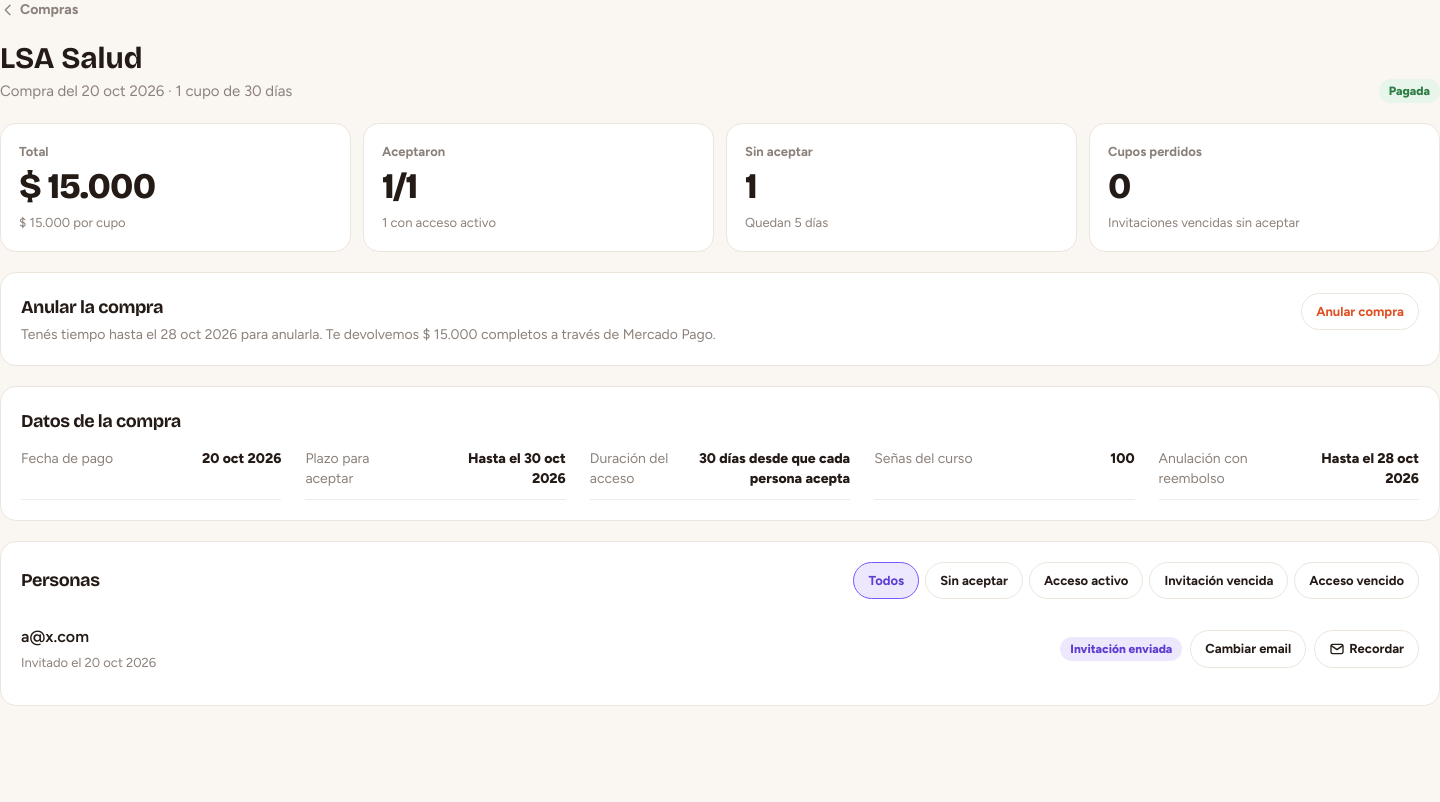
PurchaseDetailPage › explains when Mercado Pago could not give the money back
The image size is (1440, 802).
Click the button "Anular compra". click: (1360, 311)
box: [1301,292,1419,330]
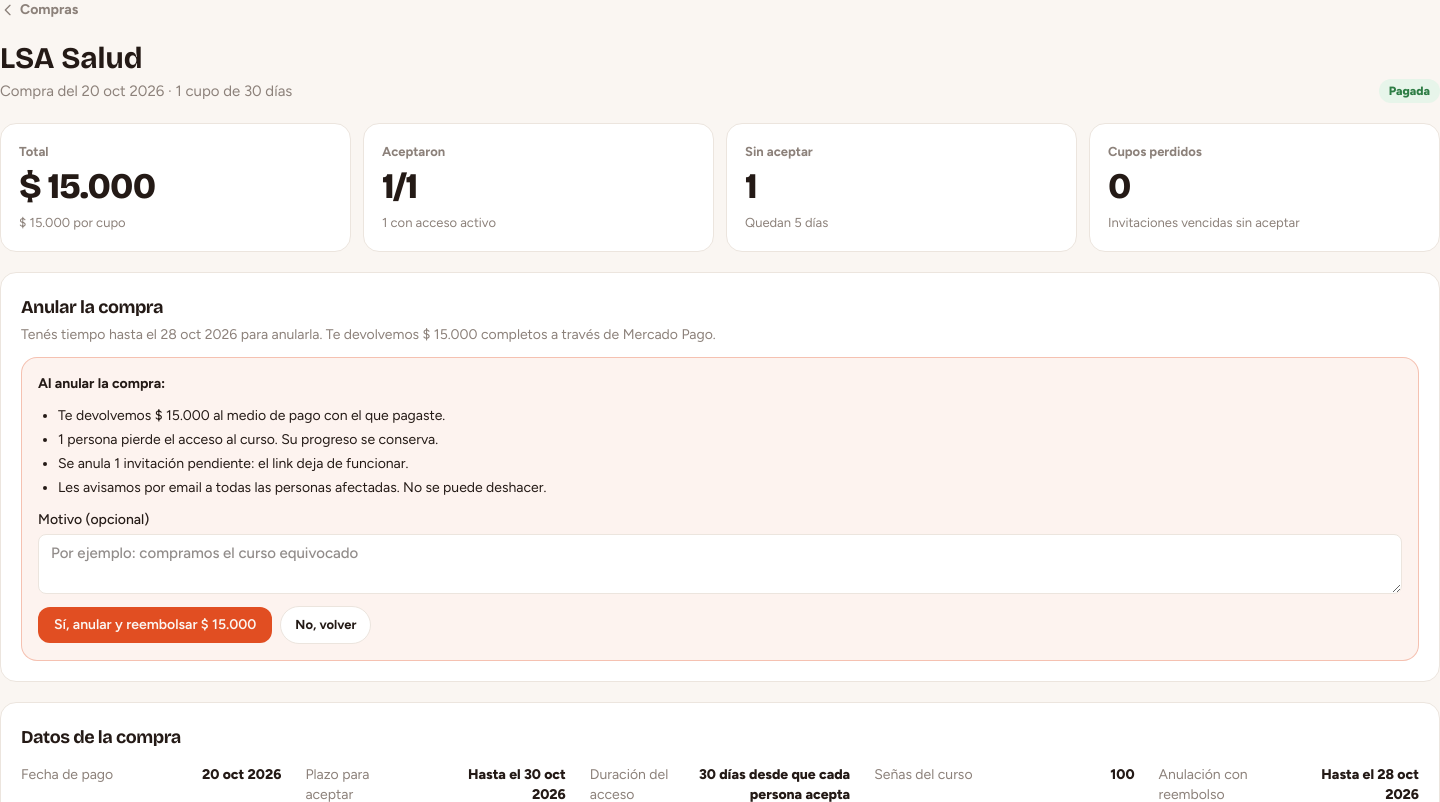
Click the button "Sí, anular y reembolsar $ 15.000". click: (155, 625)
box: [38,607,272,643]
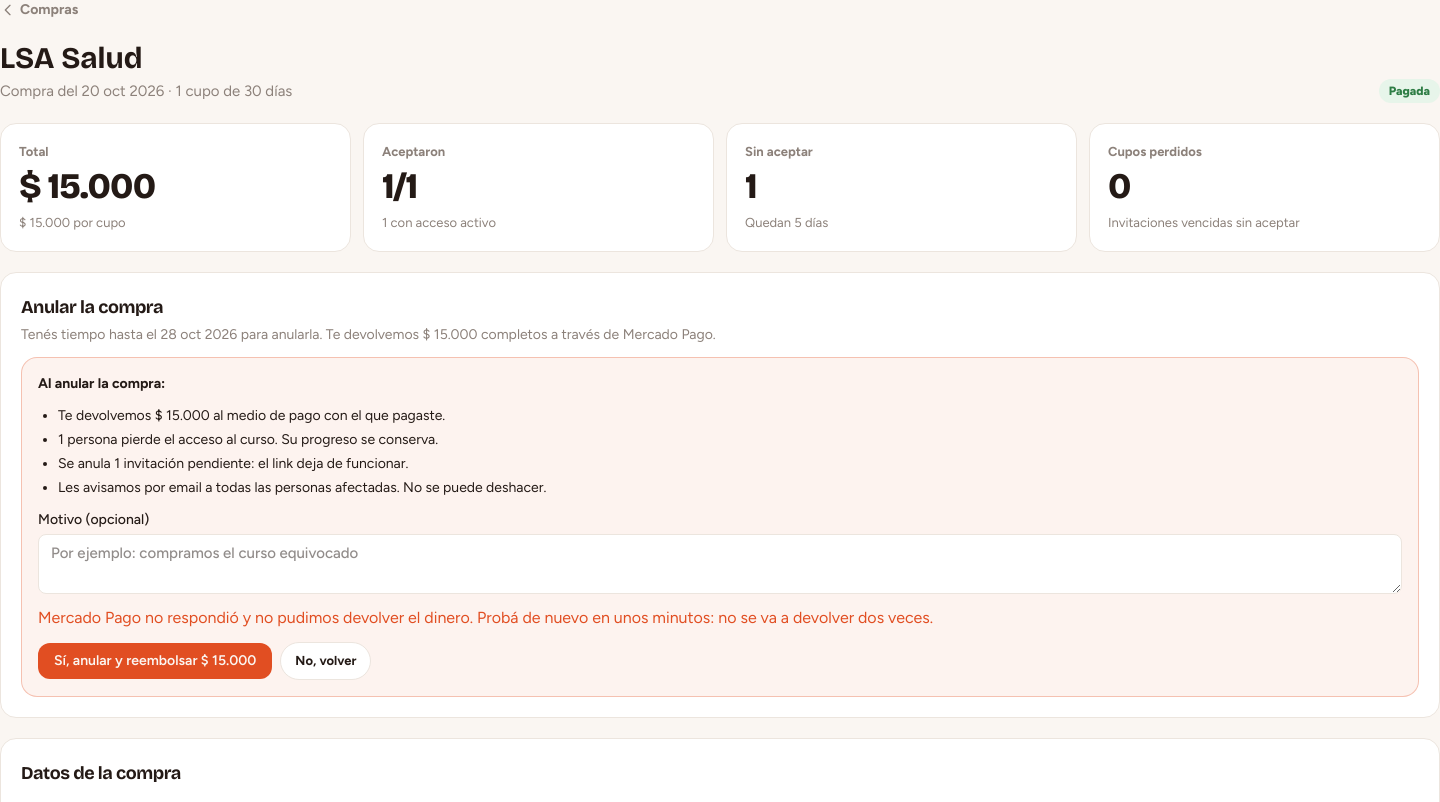
Result: the text "Mercado Pago no respondió" is shown at [38,608,933,627]
